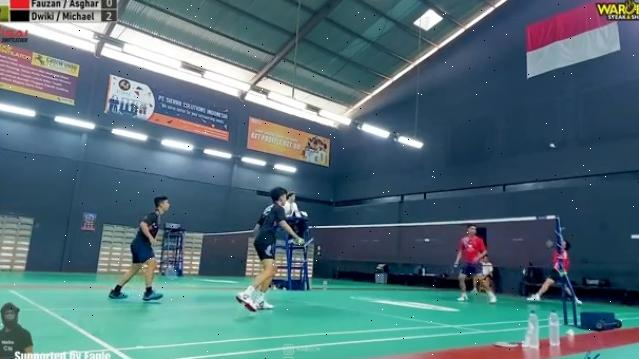Shuttlecock: (548, 140, 556, 150)
